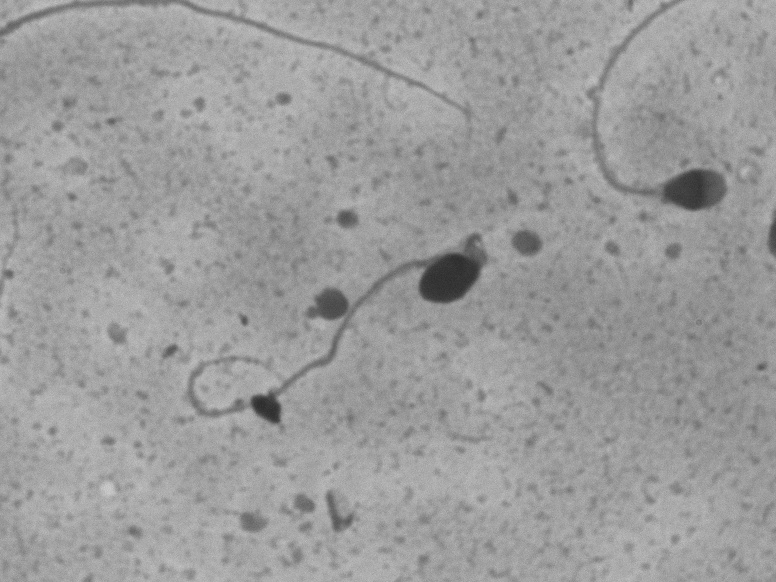Abnormal: (133, 184, 505, 438)
Normal: (543, 18, 741, 257)
